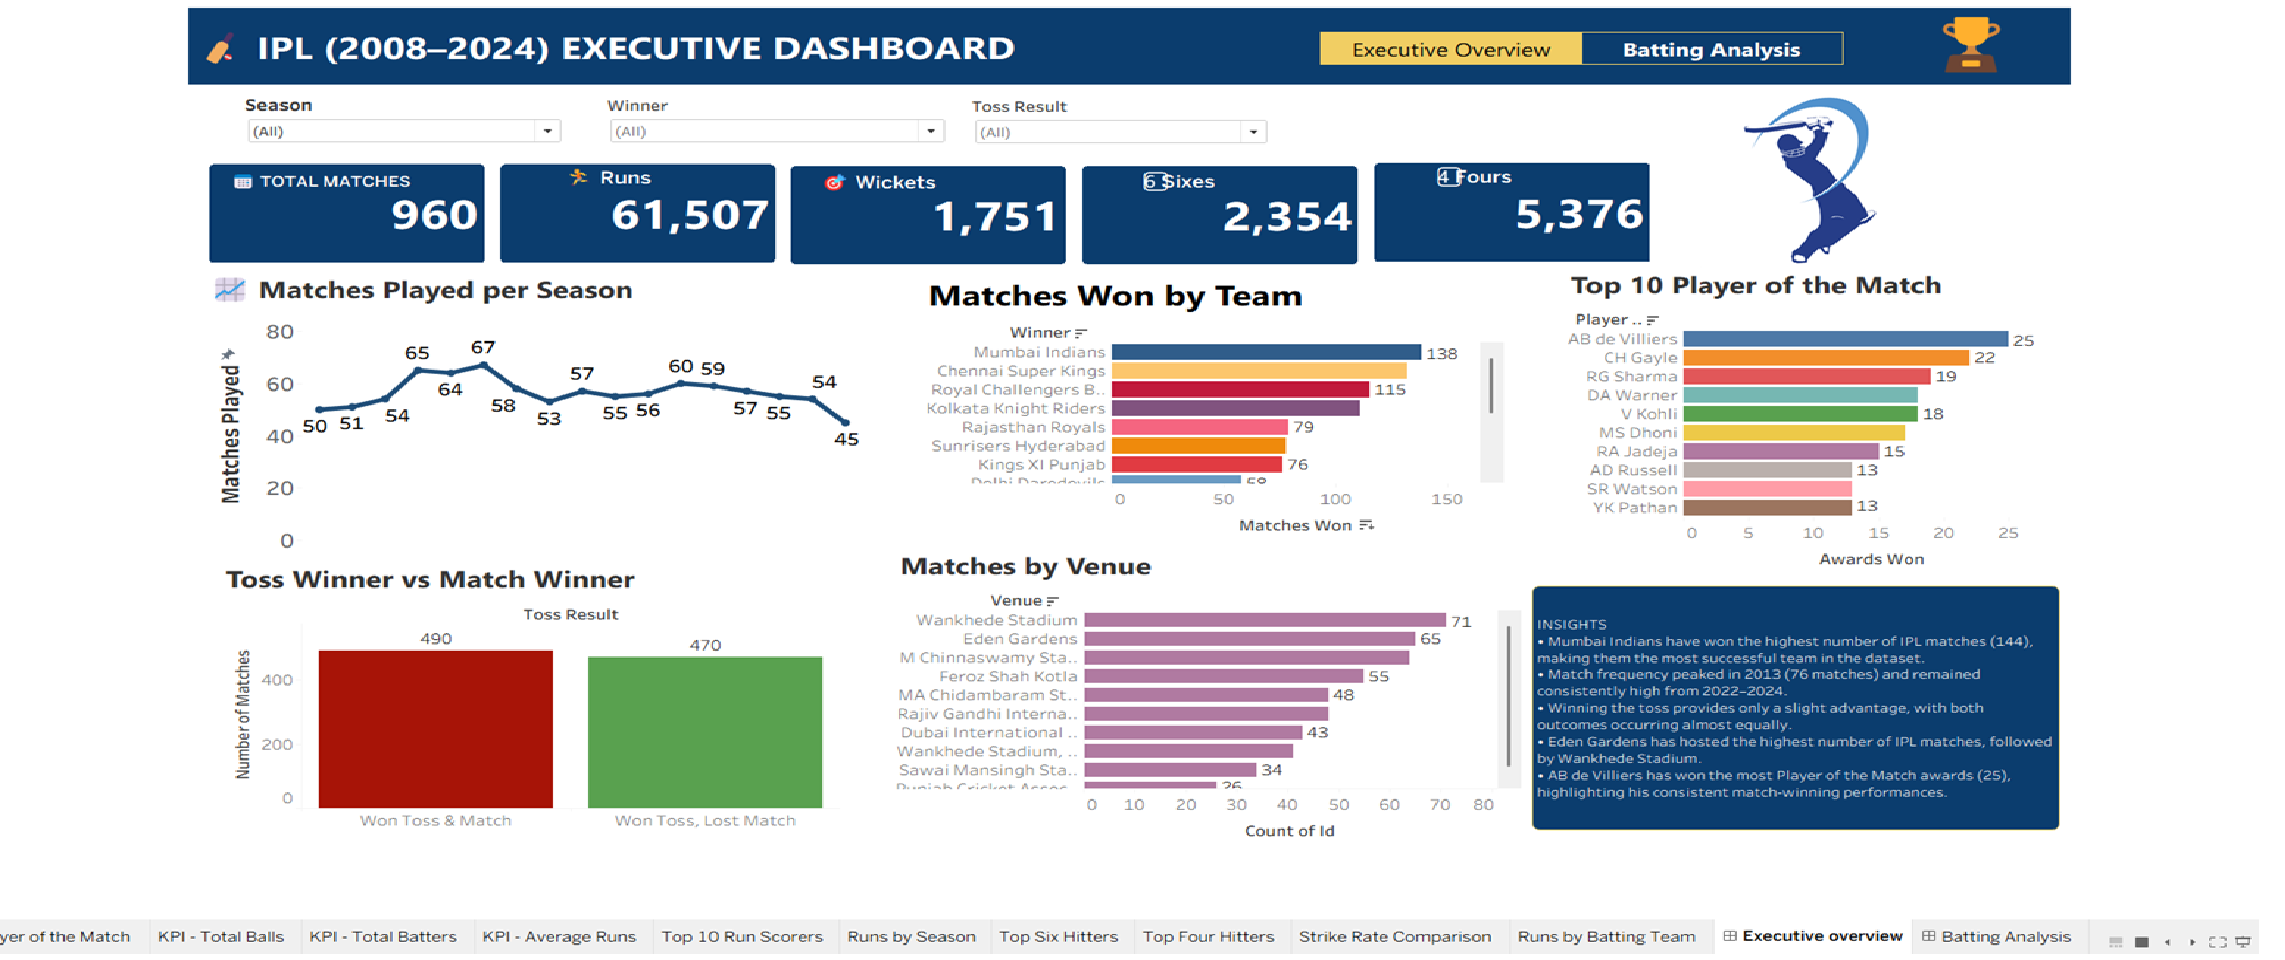

The dashboard page shown, as its layout file describes it:
{"tool":"tableau","page":{"name":"Executive overview","canvas":[1600,900],"ordinal":1},"visuals":[{"type":"text","box":[1458.3,1.2,117.1,78.5]},{"type":"dashboard-object","box":[961.6,24.6,222.5,35.2]},{"type":"dashboard-object","box":[1184.2,24.6,222.5,35.2]},{"type":"image","param":"C:/Users/Hp/OneDrive/Pictures/ipl.png","box":[1248.6,90.2,258.9,186.3]},{"type":"filter","title":"Matches by Season","param":"[federated.0j7s8vg1u2kq5l1fg6fl40pm17bg].[none:season:nk]","box":[48,91.4,271.7,58.6]},{"type":"filter","title":"Matches Won by Team","param":"[federated.0j7s8vg1u2kq5l1fg6fl40pm17bg].[none:winner:nk]","box":[356.1,92.6,290.5,62.1]},{"type":"filter","title":"Toss Winner vs Match Winner","param":"[federated.0j7s8vg1u2kq5l1fg6fl40pm17bg].[none:Calculation_1426365883322368:nk]","box":[666.5,93.8,254.2,57.4]},{"type":"text","box":[1035.4,164.1,117.1,35.2]},{"type":"text","box":[317.4,165.2,117.1,35.2]},{"type":"worksheet","title":"KPI - Total Fours","mark":"Automatic","box":[1008.5,165.2,234.3,105.5]},{"type":"worksheet","title":"KPI - Total Matches","mark":"Automatic","box":[17.6,166.4,234.3,105.5]},{"type":"worksheet","title":"KPI - Total Runs","mark":"Automatic","box":[264.7,166.4,234.3,105.5]},{"type":"text","box":[32.8,167.6,187.4,35.2]},{"type":"worksheet","title":"KPI - Total Wickets","mark":"Automatic","box":[511.9,167.6,234.3,105.5]},{"type":"worksheet","title":"KPI - Total Sixes","mark":"Automatic","box":[760.2,167.6,234.3,105.5]},{"type":"text","box":[783.6,168.8,117.1,35.2]},{"type":"text","box":[528.3,169.9,117.1,35.2]},{"type":"worksheet","title":"Top 10 Player of the Match","mark":"Bar","rows":["player_of_match"],"cols":["id"],"box":[1171.3,273.1,420.5,349.2]},{"type":"worksheet","title":"Matches by Season","mark":"Line","rows":["id"],"cols":["season"],"box":[14,277.7,557.5,305.9]},{"type":"worksheet","title":"Matches Won by Team","mark":"Bar","rows":["winner"],"cols":["id"],"box":[625.5,281.2,493.1,288.3]},{"type":"worksheet","title":"Matches by Venue","mark":"Automatic","rows":["venue"],"cols":["id"],"box":[600.9,573,531.8,322.3]},{"type":"worksheet","title":"Toss Winner vs Match Winner","mark":"Automatic","rows":["id"],"cols":["Calculation_1426365883322368"],"box":[28.1,587.1,525.9,305.9]},{"type":"text","box":[1142,616.4,448.6,261.3]}]}

Visuals, with their boxes on the page's 1600x900 design canvas (x1, y1, x2, y2). These are canvas units, not pixel positions in the 2285x960 screenshot, which may show the page scaled, cropped or inside an application window:
text: 1458/1/1575/80
dashboard-object: 962/25/1184/60
dashboard-object: 1184/25/1407/60
image: 1249/90/1508/276
"Matches by Season" filter: 48/91/320/150
"Matches Won by Team" filter: 356/93/647/155
"Toss Winner vs Match Winner" filter: 666/94/921/151
text: 1035/164/1152/199
text: 317/165/434/200
"KPI - Total Fours" worksheet: 1008/165/1243/271
"KPI - Total Matches" worksheet: 18/166/252/272
"KPI - Total Runs" worksheet: 265/166/499/272
text: 33/168/220/203
"KPI - Total Wickets" worksheet: 512/168/746/273
"KPI - Total Sixes" worksheet: 760/168/994/273
text: 784/169/901/204
text: 528/170/645/205
"Top 10 Player of the Match" worksheet (Bar marks): 1171/273/1592/622
"Matches by Season" worksheet (Line marks): 14/278/572/584
"Matches Won by Team" worksheet (Bar marks): 626/281/1119/570
"Matches by Venue" worksheet: 601/573/1133/895
"Toss Winner vs Match Winner" worksheet: 28/587/554/893
text: 1142/616/1591/878
